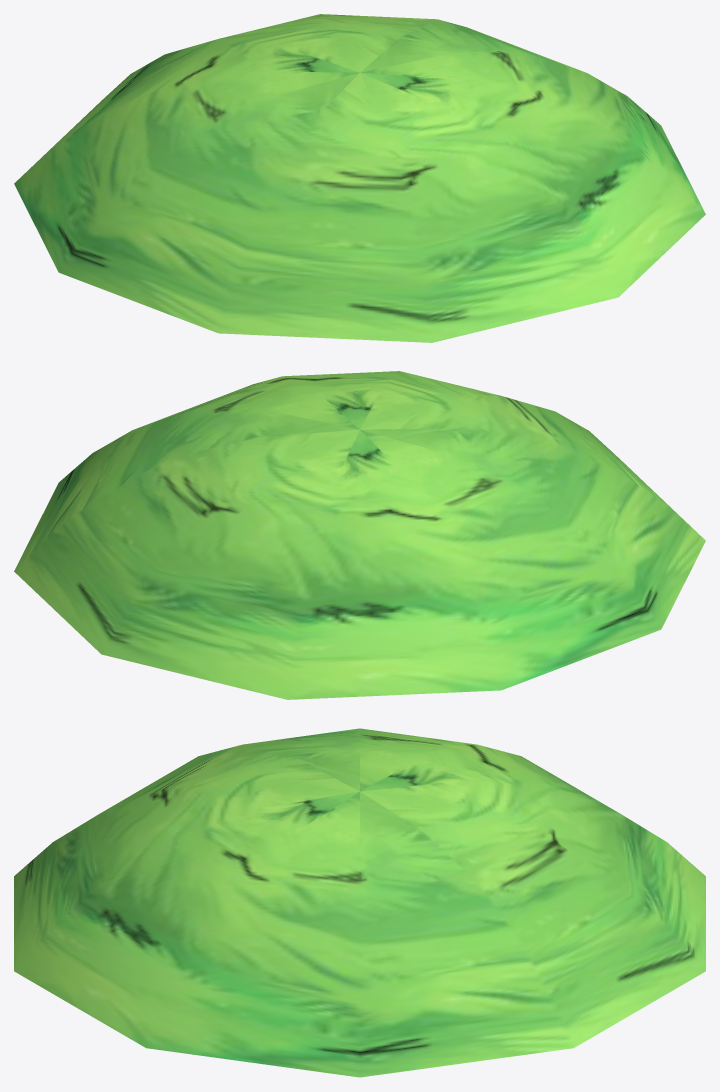
Rendered from ExportedFBXFile.fbx.
The picture shows the model from 3 angles, top to bottom: view 1: azimuth 30°, elevation 25°; view 2: azimuth 150°, elevation 25°; view 3: azimuth 270°, elevation 25°; orthographic projection. The views are drawn at different scales.
Visible parts, largest first — view 1: pSphere1; view 2: pSphere1; view 3: pSphere1.
Part boxes in pixels (x1,y1,x2,y2): pSphere1: [14, 14, 705, 342]; pSphere1: [14, 371, 705, 699]; pSphere1: [14, 728, 705, 1077].
Bounding box in the file's own units: 1.53 × 0.3077 × 1.46.
